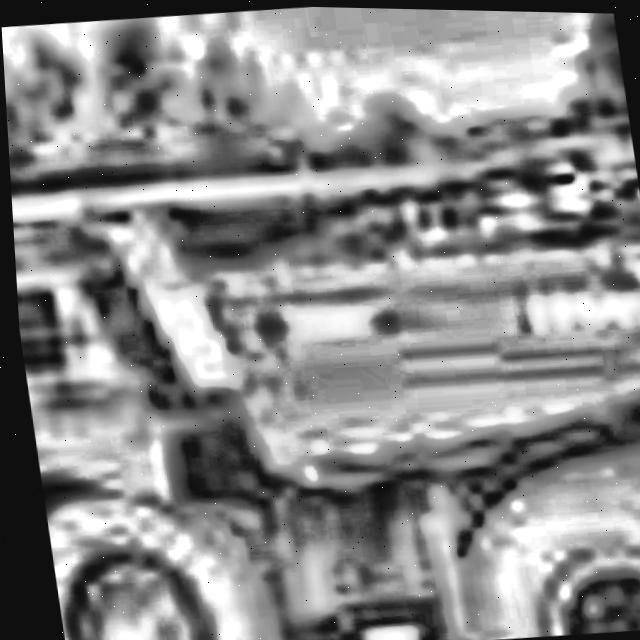dump_truck: (2, 43, 640, 640)
